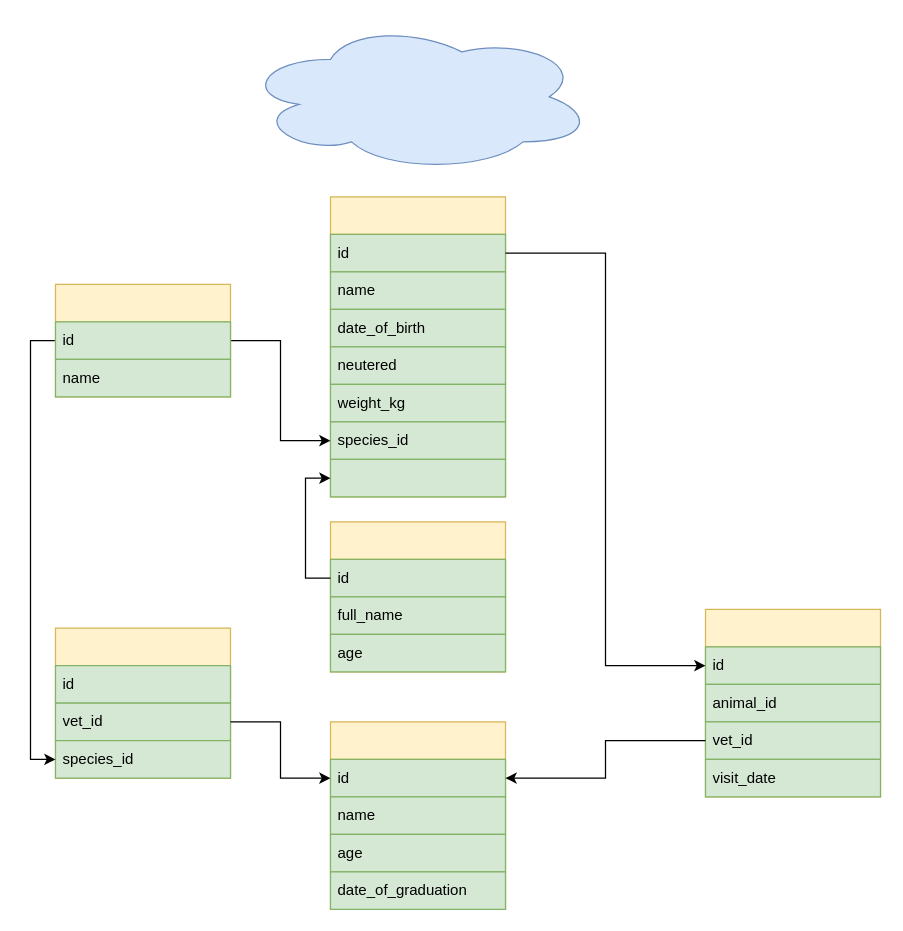
Some shapes in this 903 by 931 pixel diagram are drawn without their labels. Each missing label, with the box of its shape:
animals: (329, 196, 506, 497)
owner_id: (329, 458, 506, 497)
owners: (329, 521, 506, 672)
specializations: (54, 627, 230, 778)
species: (54, 283, 230, 397)
Vet_Clinic Database Schema: (242, 21, 593, 172)
vets: (329, 721, 506, 909)
visits: (704, 608, 880, 797)
